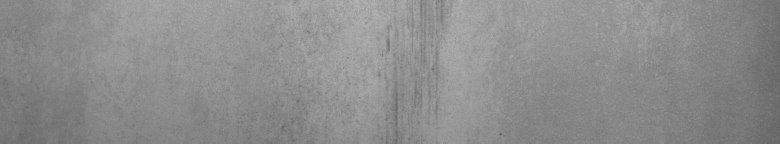ka: (378, 4, 443, 136)
